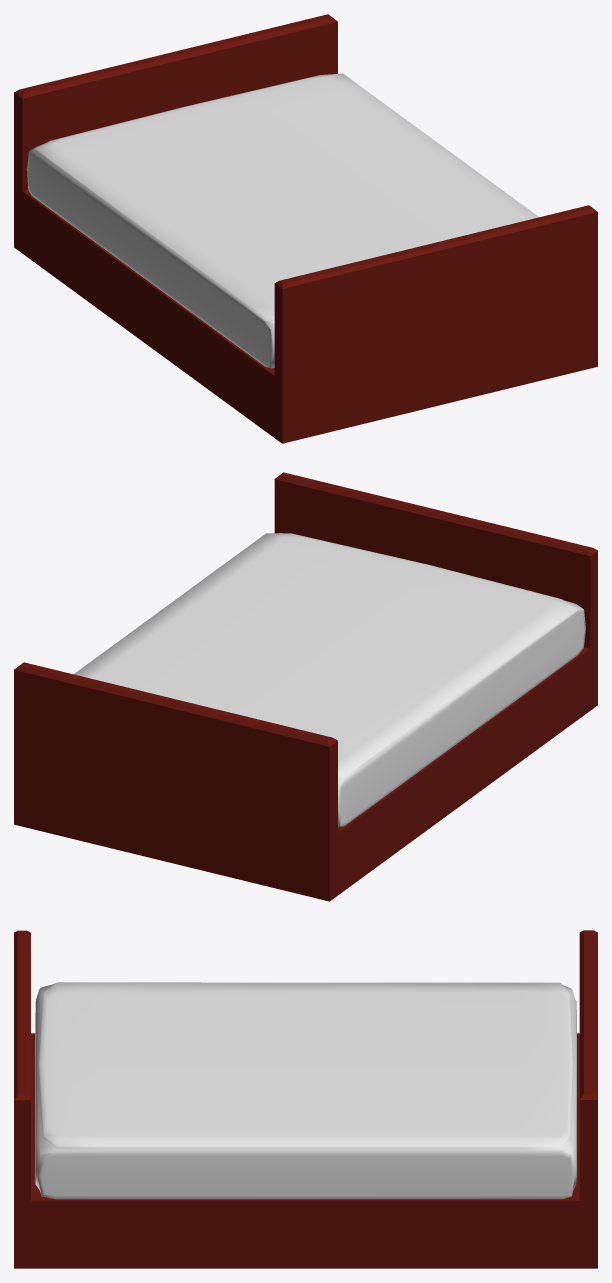
Rendered from bed.dae.
3 views of the same model, one above another, from view 1: azimuth 30°, elevation 25°; view 2: azimuth 150°, elevation 25°; view 3: azimuth 270°, elevation 25° (orthographic). The views are drawn at different scales.
Visible parts, largest first — view 1: bed-base, mat; view 2: bed-base, mat; view 3: mat, bed-base.
Part boxes in pixels (x1,y1,x2,y2): bed-base: [14, 14, 597, 443]; mat: [26, 73, 538, 368]; bed-base: [14, 472, 597, 901]; mat: [74, 533, 585, 826]; mat: [35, 982, 576, 1199]; bed-base: [14, 930, 597, 1268].
Bounding box in the file's own units: 2 × 2.94 × 0.9595.
